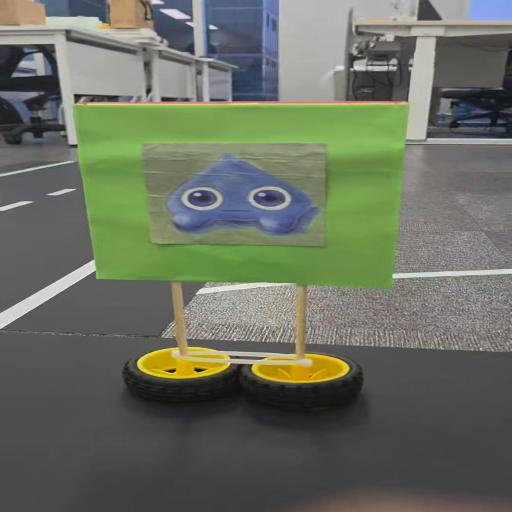Sign_B: (62, 96, 429, 422)
